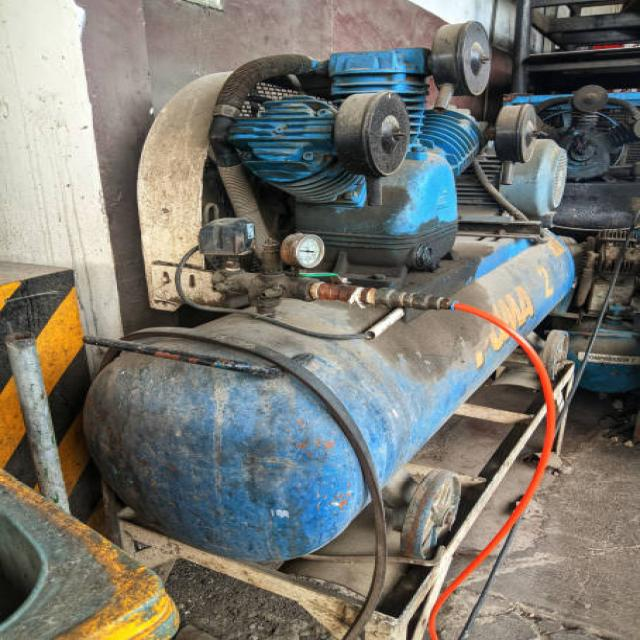compressor: (76, 19, 578, 588)
corrosion detected: (223, 88, 413, 208), (328, 89, 413, 180), (193, 214, 258, 262), (276, 230, 328, 272)
